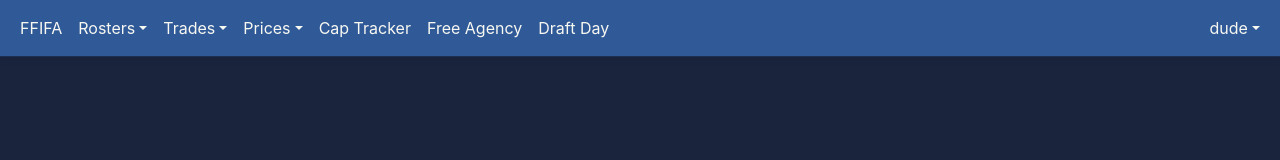
Nav Bar › can logout
Click the link "dude": click(1235, 28) [1202,8,1268,48]
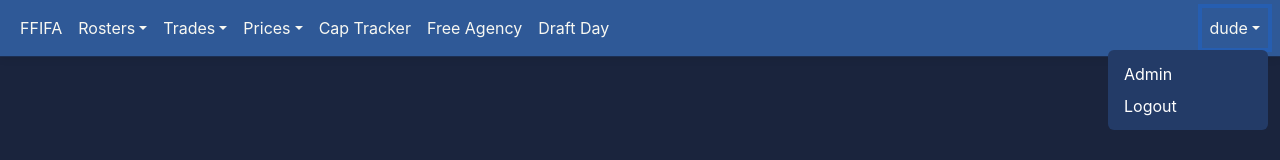
Click the menu item "Logout": click(1188, 106) [1108,90,1268,122]
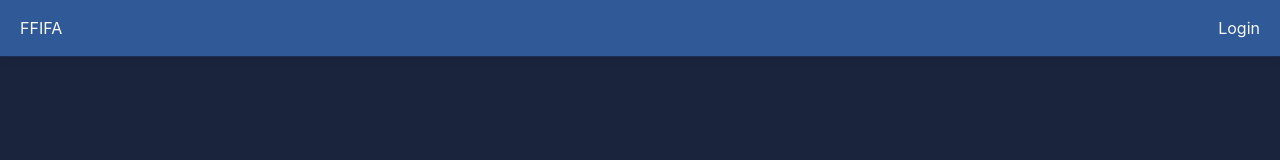
Check: the link "Cap Tracker" is gone
